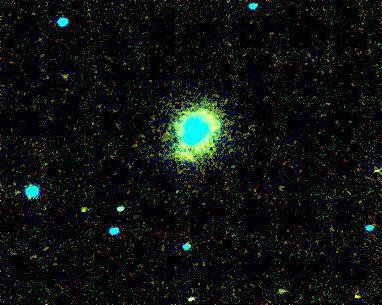star: (342, 281, 372, 305)
